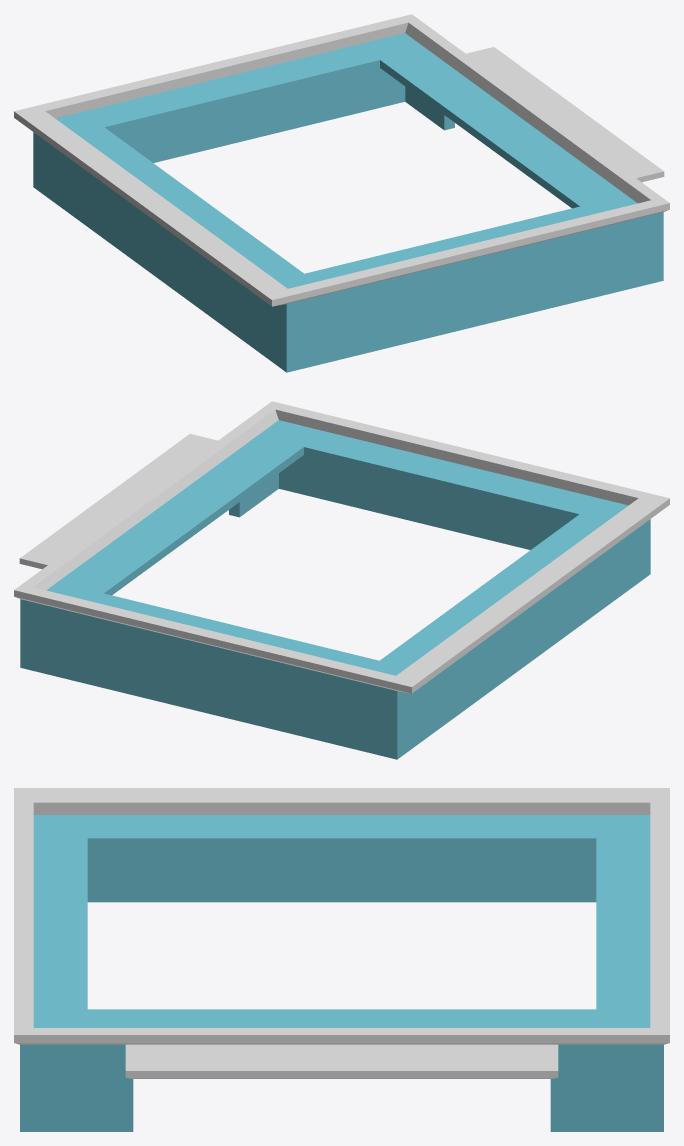
Rendered from palengkewall.fbx.
The picture shows the model from 3 angles, top to bottom: view 1: azimuth 30°, elevation 25°; view 2: azimuth 150°, elevation 25°; view 3: azimuth 270°, elevation 25°; orthographic projection. The views are drawn at different scales.
Parts seen in each view (by area): view 1: palengkewall; view 2: palengkewall; view 3: palengkewall.
Part boxes in pixels (x1,y1,x2,y2): palengkewall: (14,14,669,372); palengkewall: (14,401,669,759); palengkewall: (14,788,669,1131).
Size of the model in its own units: 87.09 by 14.96 by 89.25.
